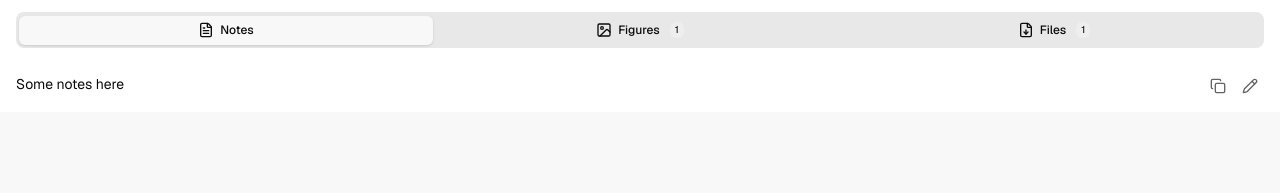
Test: RecordDetails › cancels editing and restores the original notes
The image size is (1280, 193).
Click the button titled "Edit notes" at (1250, 86), box x1=1236 y1=72 x2=1264 y2=100
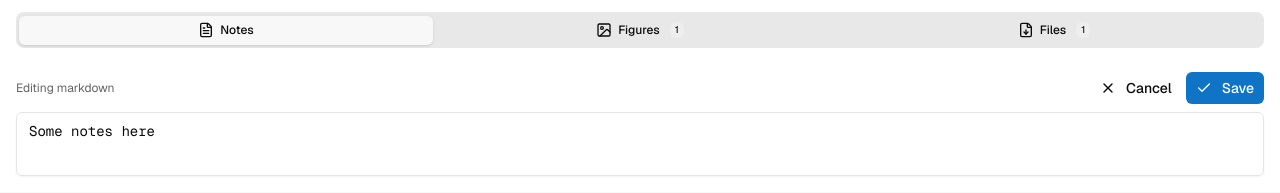
Replace the text in the text box with "Draft edit" at (640, 144), box x1=16 y1=112 x2=1264 y2=176
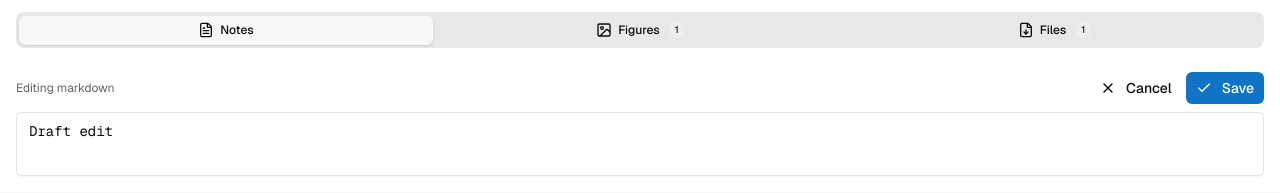
# Cancel editing
Click the button "Cancel" at (1136, 88), box x1=1090 y1=72 x2=1182 y2=104
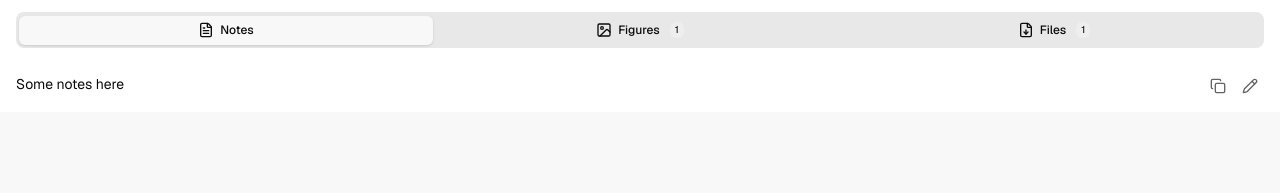
Now the text "Some notes here" is shown, box x1=16 y1=75 x2=124 y2=93
